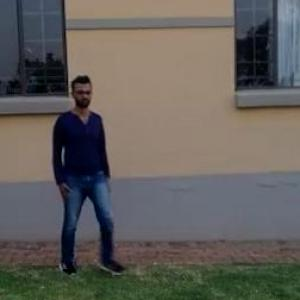follow: (53, 76, 110, 270)
